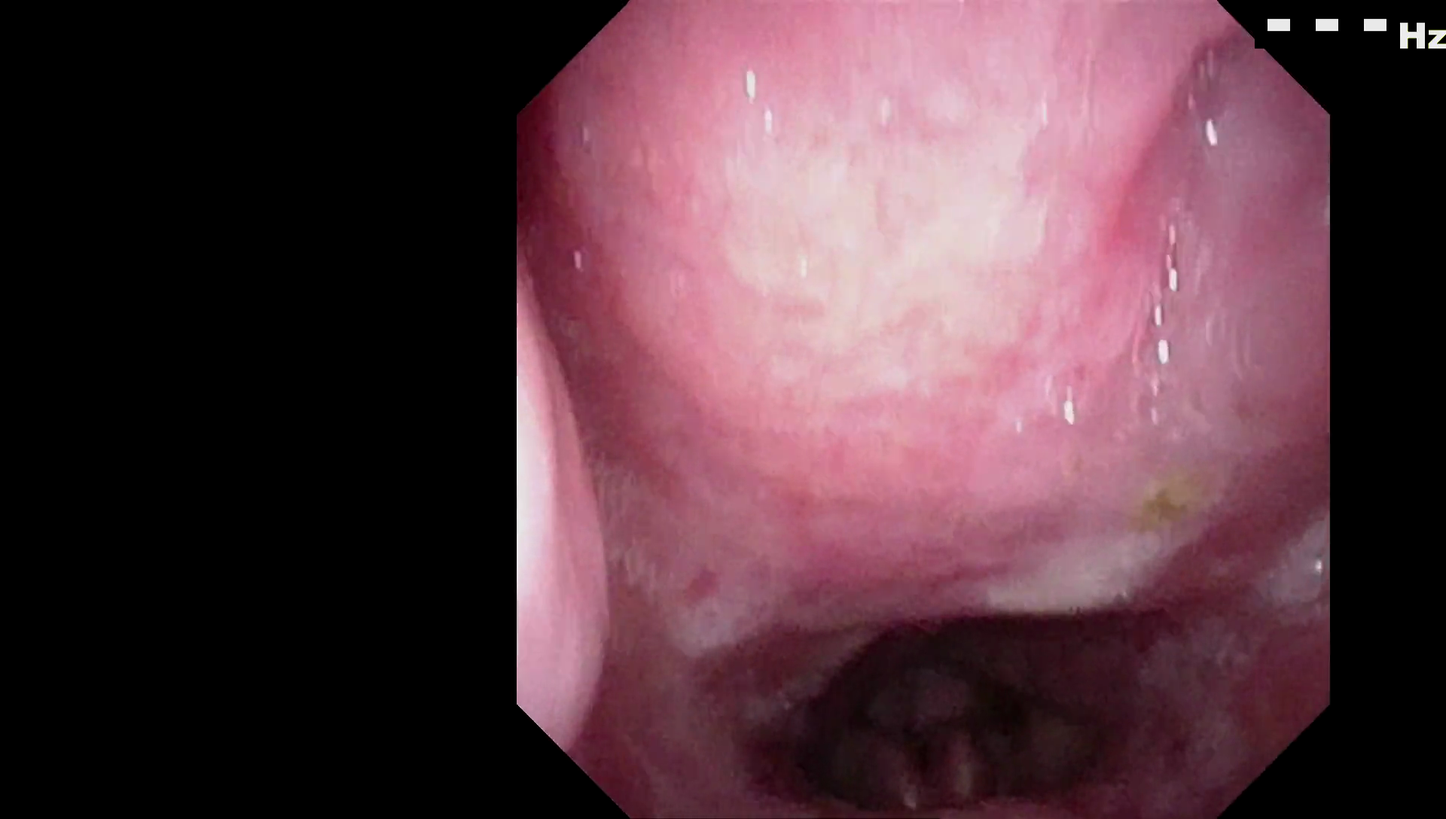close_wall: (612, 17, 1147, 488), (521, 263, 623, 748)
next: (876, 623, 1102, 787)
